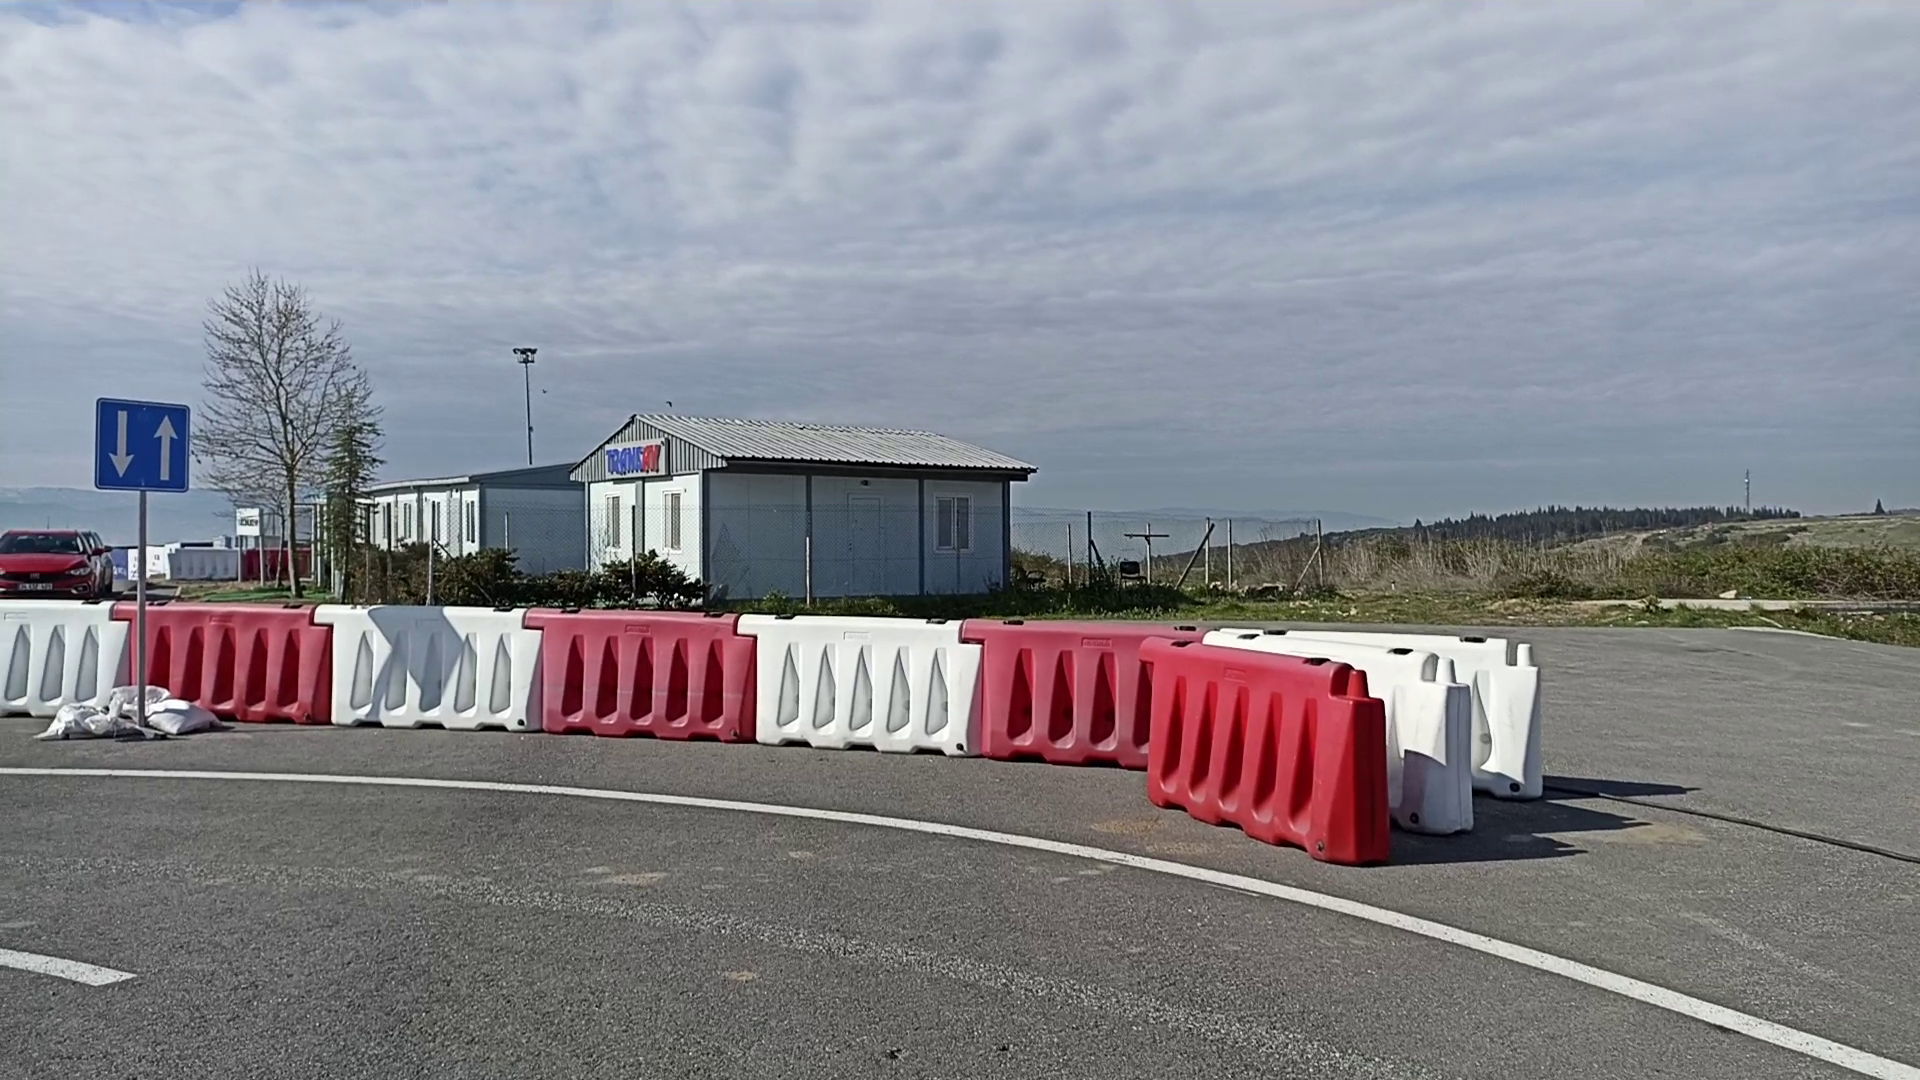oneway: (91, 396, 193, 496)
